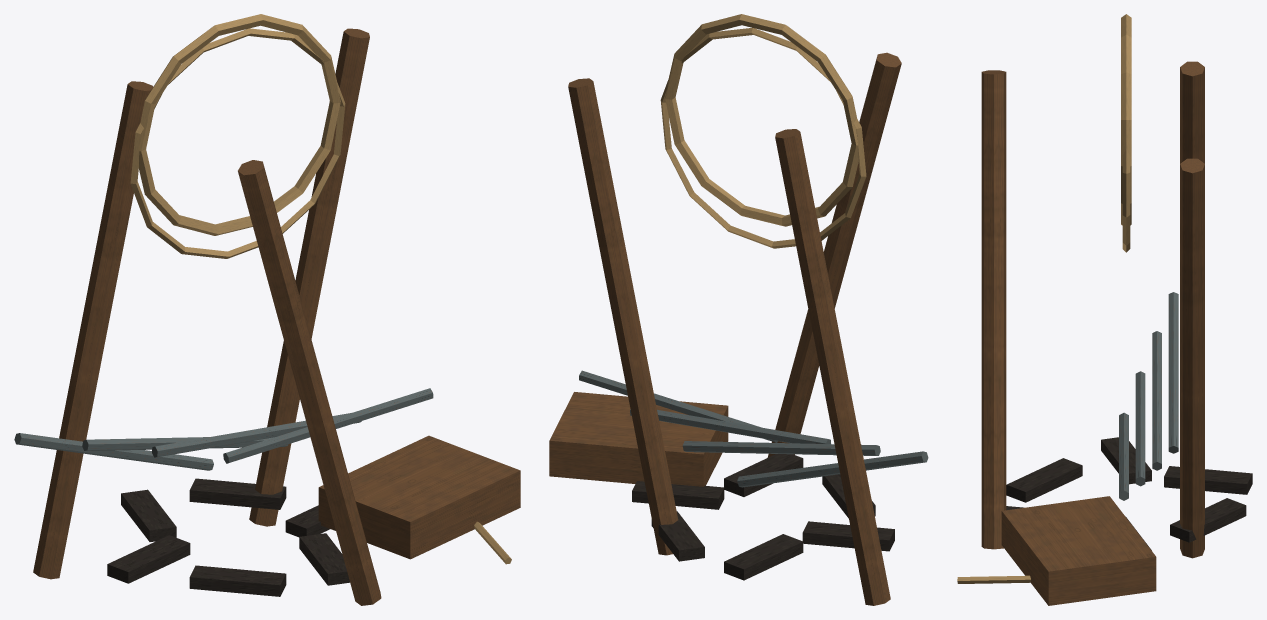
Rendered from en-017_cooking_corner_set__utensils.obj.
3 views of the same model, side by side, from view 1: azimuth 30°, elevation 25°; view 2: azimuth 150°, elevation 25°; view 3: azimuth 270°, elevation 25° (orthographic). The views are drawn at different scales.
Visible parts, largest first — view 1: en-017_cooking_corner_set__utensils; view 2: en-017_cooking_corner_set__utensils; view 3: en-017_cooking_corner_set__utensils.
Boxes of the visible parts, x1=… form: en-017_cooking_corner_set__utensils: x1=14, y1=14, x2=520, y2=605; en-017_cooking_corner_set__utensils: x1=549, y1=14, x2=928, y2=605; en-017_cooking_corner_set__utensils: x1=957, y1=14, x2=1252, y2=605.
Bounding box in the file's own units: 0.9795 × 1.17 × 0.6244.
4 materials, 4 textured.
